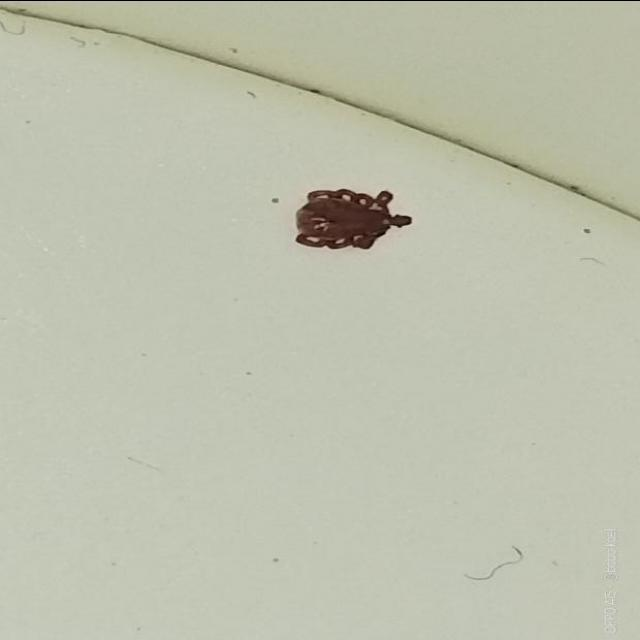Rhipicephalus Sanguineus-M: (295, 185, 414, 252)
